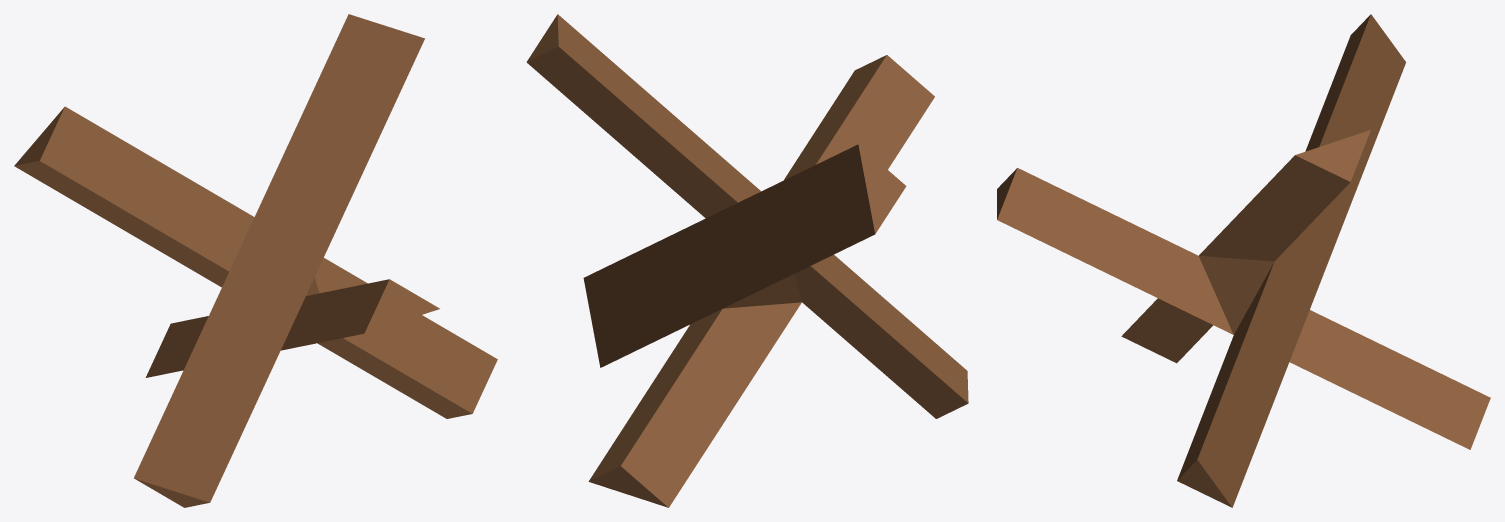
The model's file is barricade-tank.fbx.
3 views of the same model, side by side, from view 1: azimuth 30°, elevation 25°; view 2: azimuth 150°, elevation 25°; view 3: azimuth 270°, elevation 25° (orthographic). The views are drawn at different scales.
Visible parts, largest first — view 1: barricade-tank; view 2: barricade-tank; view 3: barricade-tank.
Part boxes in pixels (bbox=[...]): barricade-tank: bbox=[14, 14, 497, 507]; barricade-tank: bbox=[526, 14, 968, 507]; barricade-tank: bbox=[997, 14, 1490, 507].
Bounding box in the file's own units: 1.7 × 1.54 × 1.9.
